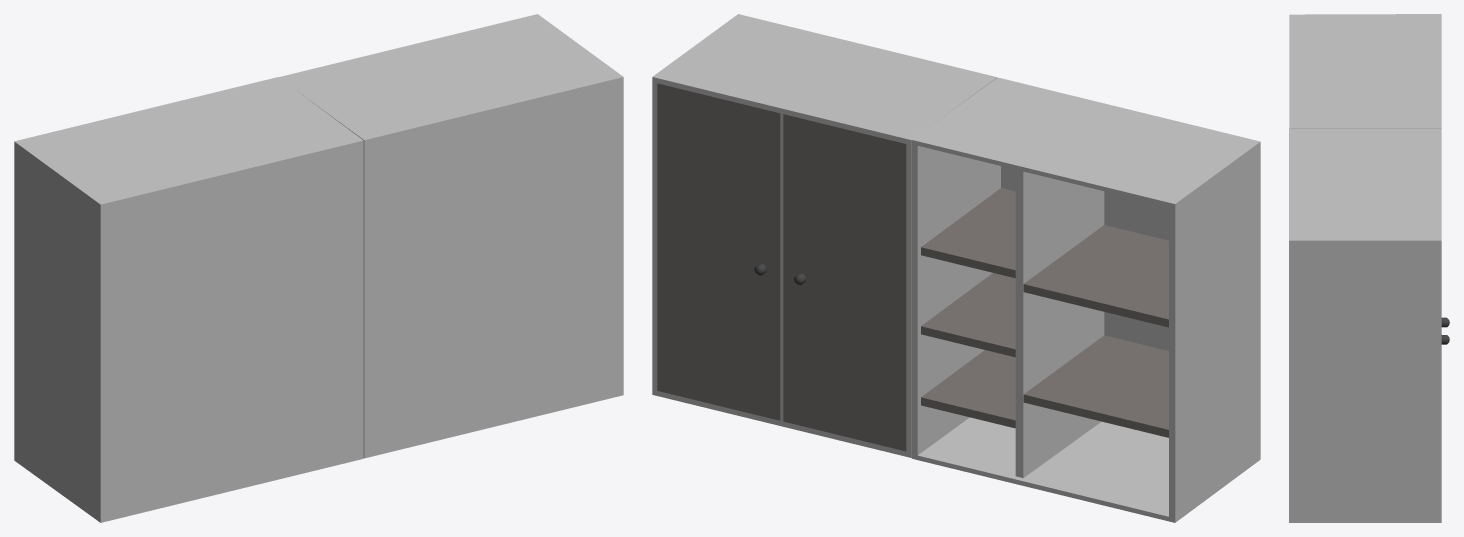
The model's file is SM_Locker_01.FBX.
3 renders of one model, left to right at view 1: azimuth 30°, elevation 25°; view 2: azimuth 150°, elevation 25°; view 3: azimuth 270°, elevation 25°, orthographic. The views are drawn at different scales.
Parts seen in each view (by area): view 1: SM_Locker_01; view 2: SM_Locker_01; view 3: SM_Locker_01.
Part boxes in pixels (<box>): SM_Locker_01: <box>14,14,623,522</box>; SM_Locker_01: <box>652,14,1260,522</box>; SM_Locker_01: <box>1289,14,1449,522</box>.
Size of the model in its own units: 166 by 49.68 by 96.53.
